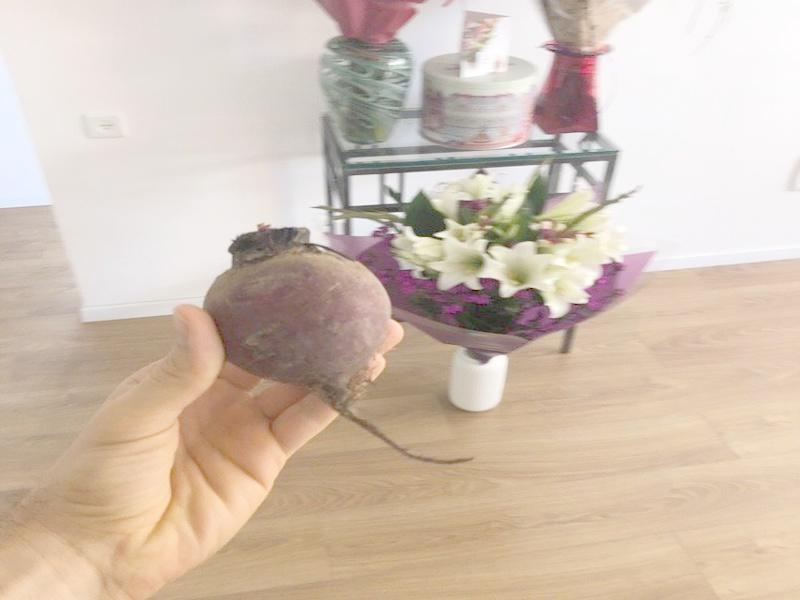Beet: (204, 225, 479, 463)
